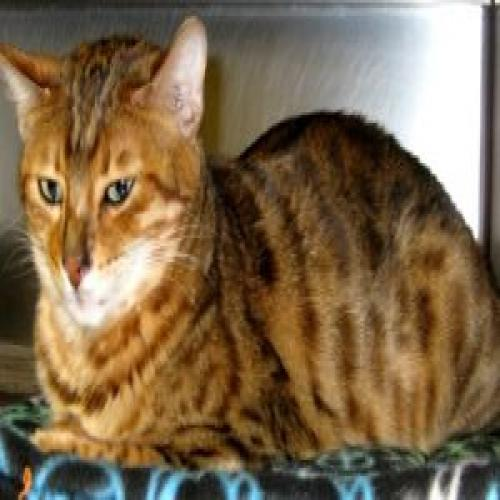bengal: (1, 12, 222, 344)
